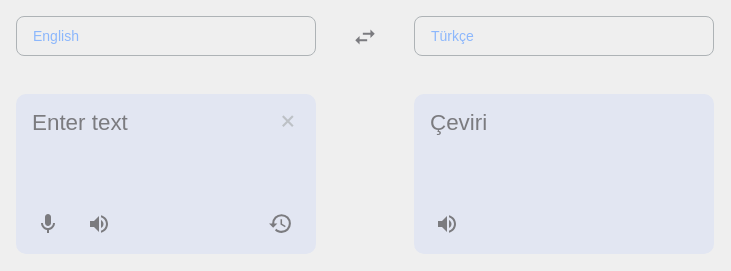
Test: App › when typed input 'car' output value should be 'Translating...'
In the text box with placeholder "Enter text": (166, 174) x1=16 y1=94 x2=316 y2=254, type "car"
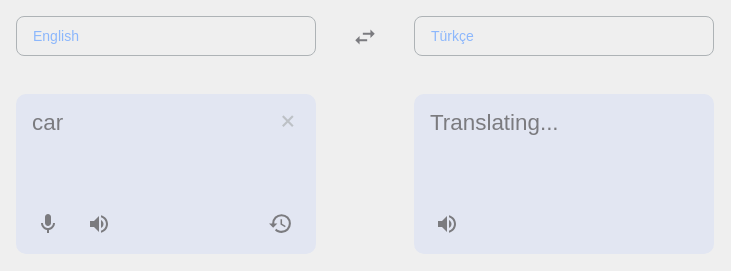
Now the 2nd text box with placeholder "Çeviri" holds "Translating...", box x1=414 y1=94 x2=714 y2=254
